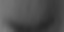LeftEyeFatigue: (3, 10, 58, 32)
